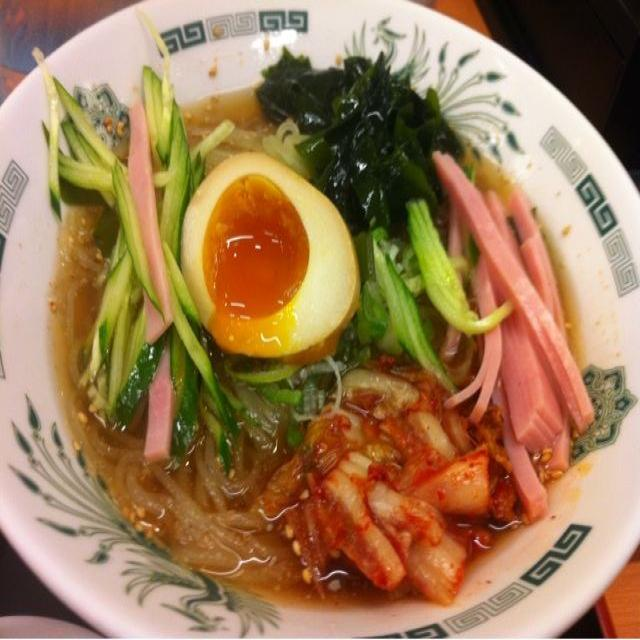面条主食: (5, 0, 637, 636)
